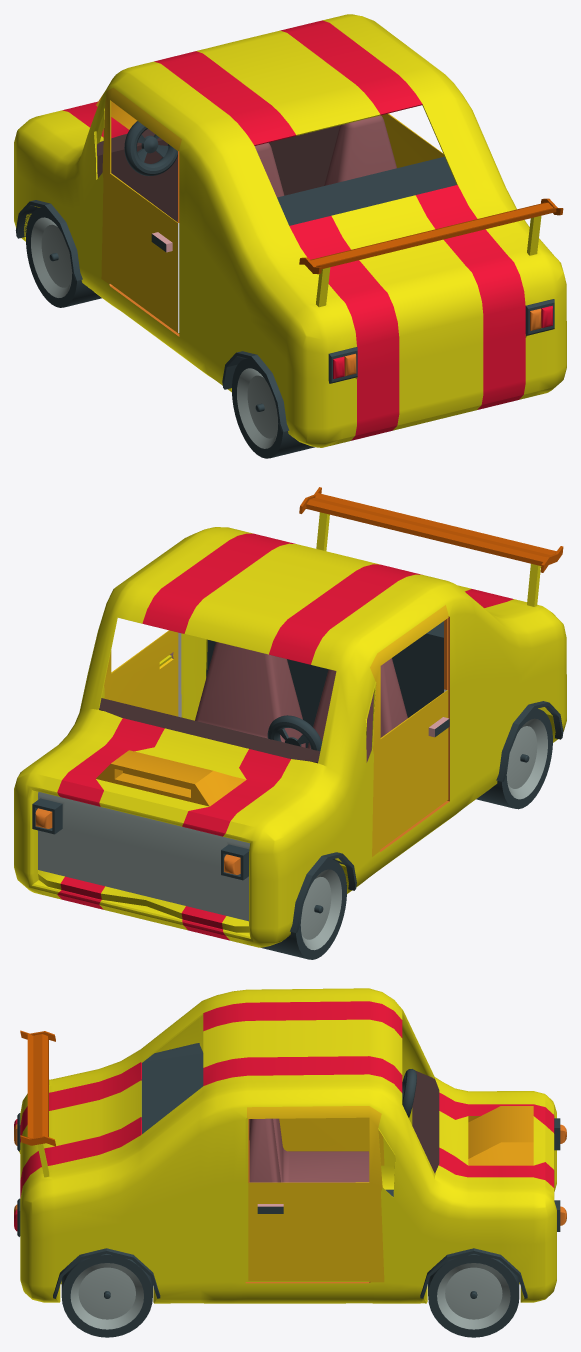
The model's file is Car3.fbx.
3 renders of one model, top to bottom at view 1: azimuth 30°, elevation 25°; view 2: azimuth 150°, elevation 25°; view 3: azimuth 270°, elevation 25°, orthographic. The views are drawn at different scales.
Visible parts, largest first — view 1: Cube; view 2: Cube; view 3: Cube.
Part boxes in pixels (bbox=[...]): Cube: bbox=[14, 14, 566, 458]; Cube: bbox=[14, 487, 566, 959]; Cube: bbox=[14, 988, 566, 1337].
Bounding box in the file's own units: 209 × 192 × 398.
